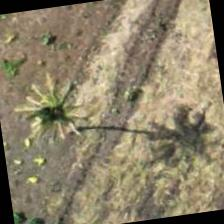Kelapa_Sawit: (4, 62, 106, 164)
